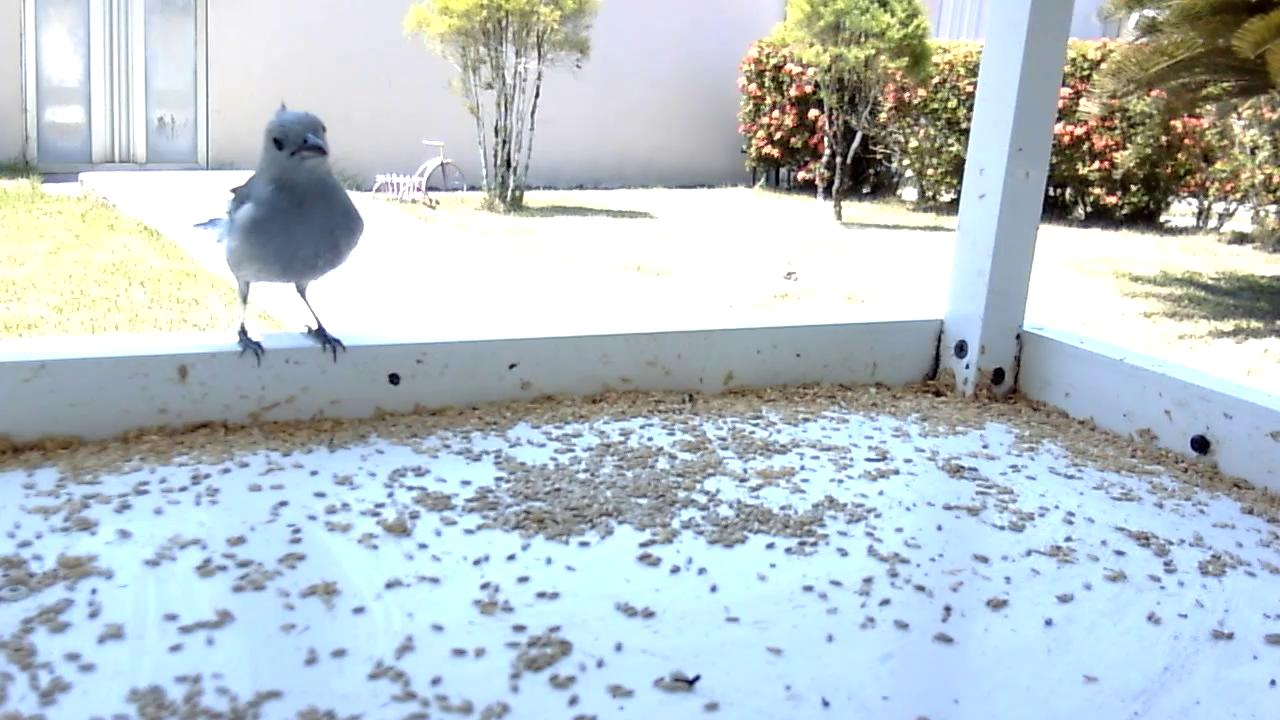sanhaco_da_amazonia: (195, 93, 367, 367)
